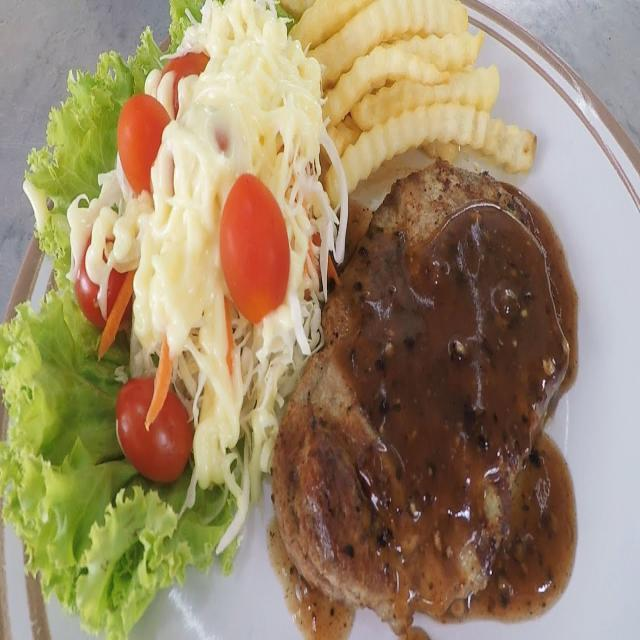cac loai rau cu: (1, 70, 248, 640), (103, 0, 302, 500), (221, 175, 292, 327), (114, 365, 198, 480), (72, 196, 140, 328), (113, 76, 178, 187)
khoai tay chien: (288, 0, 550, 202)
thit heo: (276, 159, 581, 611)
thit lon bistek: (4, 0, 580, 640)
